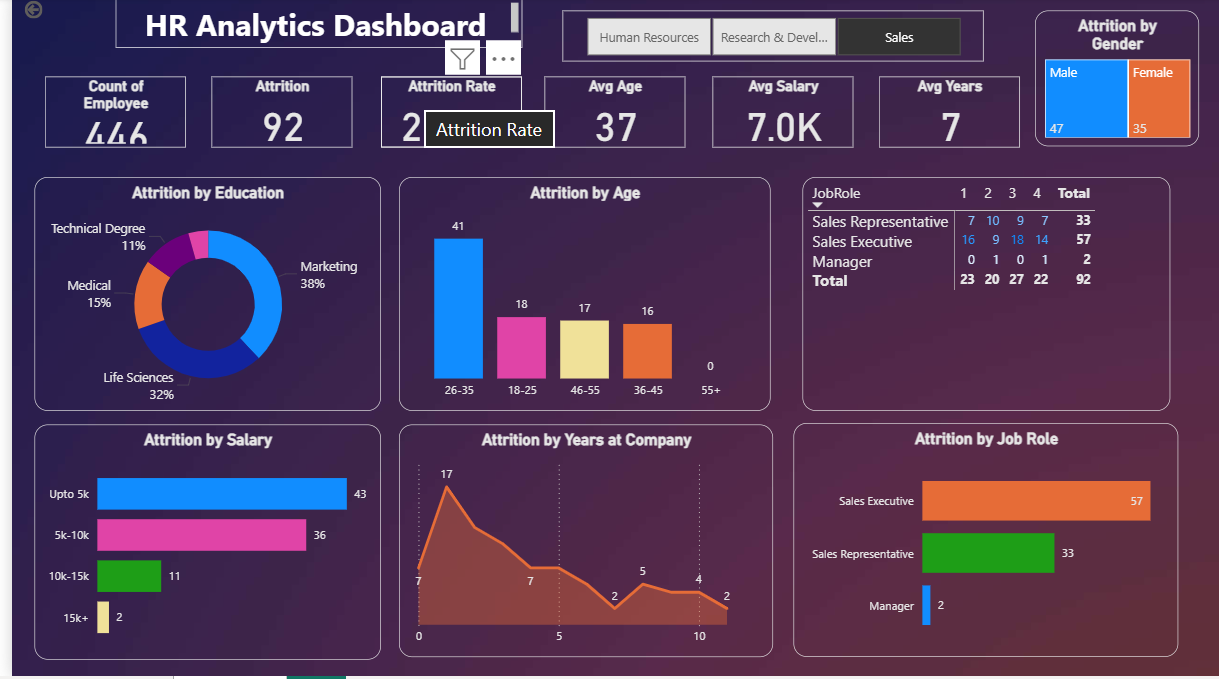

The page's visual inventory and layout, read from the dashboard file:
{"tool":"powerbi","page":{"name":"Page 1","canvas":[1280,720],"ordinal":0},"visuals":[{"type":"card","title":"Count of Employee","fields":{"Values":["CountNonNull(HR_Analytics.EmpID)"]},"box":[35.3,84,149.5,75.6],"z":0},{"type":"card","title":"Attrition","fields":{"Values":["Sum(HR_Analytics.AttritionCount)"]},"box":[211.7,84,149.5,75.6],"z":1000},{"type":"card","title":"Attrition Rate","fields":{"Values":["HR_Analytics.AttritionRate"]},"box":[391.4,84,149.5,75.6],"z":2000},{"type":"card","title":"Avg Age","fields":{"Values":["Avg(HR_Analytics.Age)"]},"box":[564.4,84,149.5,75.6],"z":3000},{"type":"actionButton","box":[10.1,0,100.8,26.9],"z":4000},{"type":"card","title":"Avg Salary","fields":{"Values":["Avg(HR_Analytics.MonthlyIncome)"]},"box":[742.5,84,149.5,75.6],"z":5000},{"type":"card","title":"Avg Years","fields":{"Values":["Avg(HR_Analytics.YearsAtCompany)"]},"box":[918.8,84,149.5,75.6],"z":6000},{"type":"donutChart","title":"Attrition by Education","fields":{"Y":["Sum(HR_Analytics.AttritionCount)"],"Category":["HR_Analytics.EducationField","HR_Analytics.YearsAtCompany"]},"box":[24.1,191.3,367.1,248],"z":7000},{"type":"columnChart","title":"Attrition by Age","fields":{"Category":["HR_Analytics.AgeGroup"],"Y":["Sum(HR_Analytics.AttritionCount)"]},"box":[411,191.3,394,248],"z":8000},{"type":"pivotTable","fields":{"Rows":["HR_Analytics.JobRole"],"Columns":["HR_Analytics.JobSatisfaction"],"Values":["Sum(HR_Analytics.AttritionCount)"]},"box":[837.6,191.3,389.8,248],"z":9000},{"type":"barChart","title":"Attrition by Salary","fields":{"Category":["HR_Analytics.SalarySlab"],"Y":["Sum(HR_Analytics.AttritionCount)"]},"box":[24.1,453.5,367.1,249.4],"z":10000},{"type":"barChart","title":"Attrition by Job Role","fields":{"Category":["HR_Analytics.JobRole"],"Y":["Sum(HR_Analytics.AttritionCount)"]},"box":[829.1,452.1,408.2,248],"z":11000},{"type":"areaChart","title":"Attrition by Years at Company","fields":{"Category":["HR_Analytics.YearsAtCompany"],"Y":["Sum(HR_Analytics.AttritionCount)"]},"box":[411,453.5,396.9,246.6],"z":12000},{"type":"treemap","title":"Attrition by Gender","fields":{"Group":["HR_Analytics.Gender"],"Values":["Sum(HR_Analytics.AttritionCount)"]},"box":[1085,14.1,174,144.3],"z":13000},{"type":"slicer","fields":{"Values":["HR_Analytics.Department"]},"box":[584.2,14.1,447,53.8],"z":14000},{"type":"textbox","box":[110.3,0,431.4,53.8],"z":15000}]}

Visuals, with their boxes in screenshot pixels (x1, y1, x2, y2), scaled from the page's 1280x720 canvas onto the 1219x679 screenshot:
"Count of Employee" card: (34,79,176,151)
"Attrition" card: (202,79,344,151)
"Attrition Rate" card: (373,79,515,151)
"Avg Age" card: (538,79,680,151)
actionButton: (10,0,106,25)
"Avg Salary" card: (707,79,849,151)
"Avg Years" card: (875,79,1017,151)
"Attrition by Education" donutChart: (23,180,373,414)
"Attrition by Age" columnChart: (391,180,767,414)
pivotTable - HR_Analytics.JobRole x HR_Analytics.JobSatisfaction: (798,180,1169,414)
"Attrition by Salary" barChart: (23,428,373,663)
"Attrition by Job Role" barChart: (790,426,1178,660)
"Attrition by Years at Company" areaChart: (391,428,769,660)
"Attrition by Gender" treemap: (1033,13,1199,149)
slicer - HR_Analytics.Department: (556,13,982,64)
textbox: (105,0,516,51)
